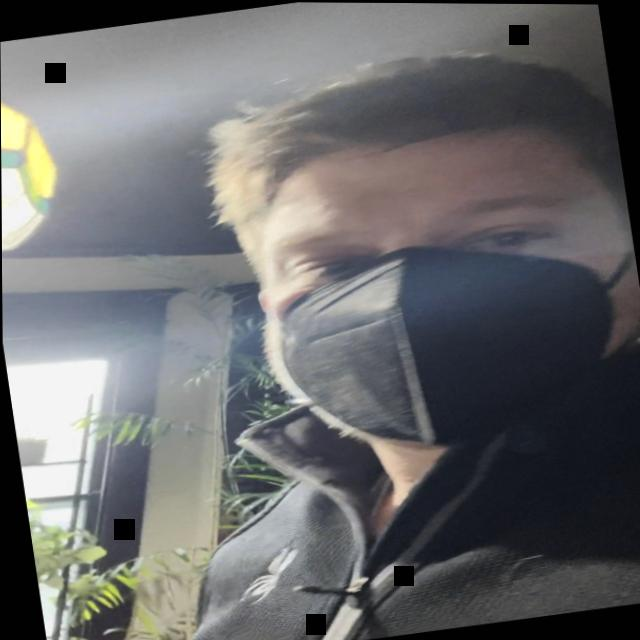Mask: (230, 98, 640, 475)
